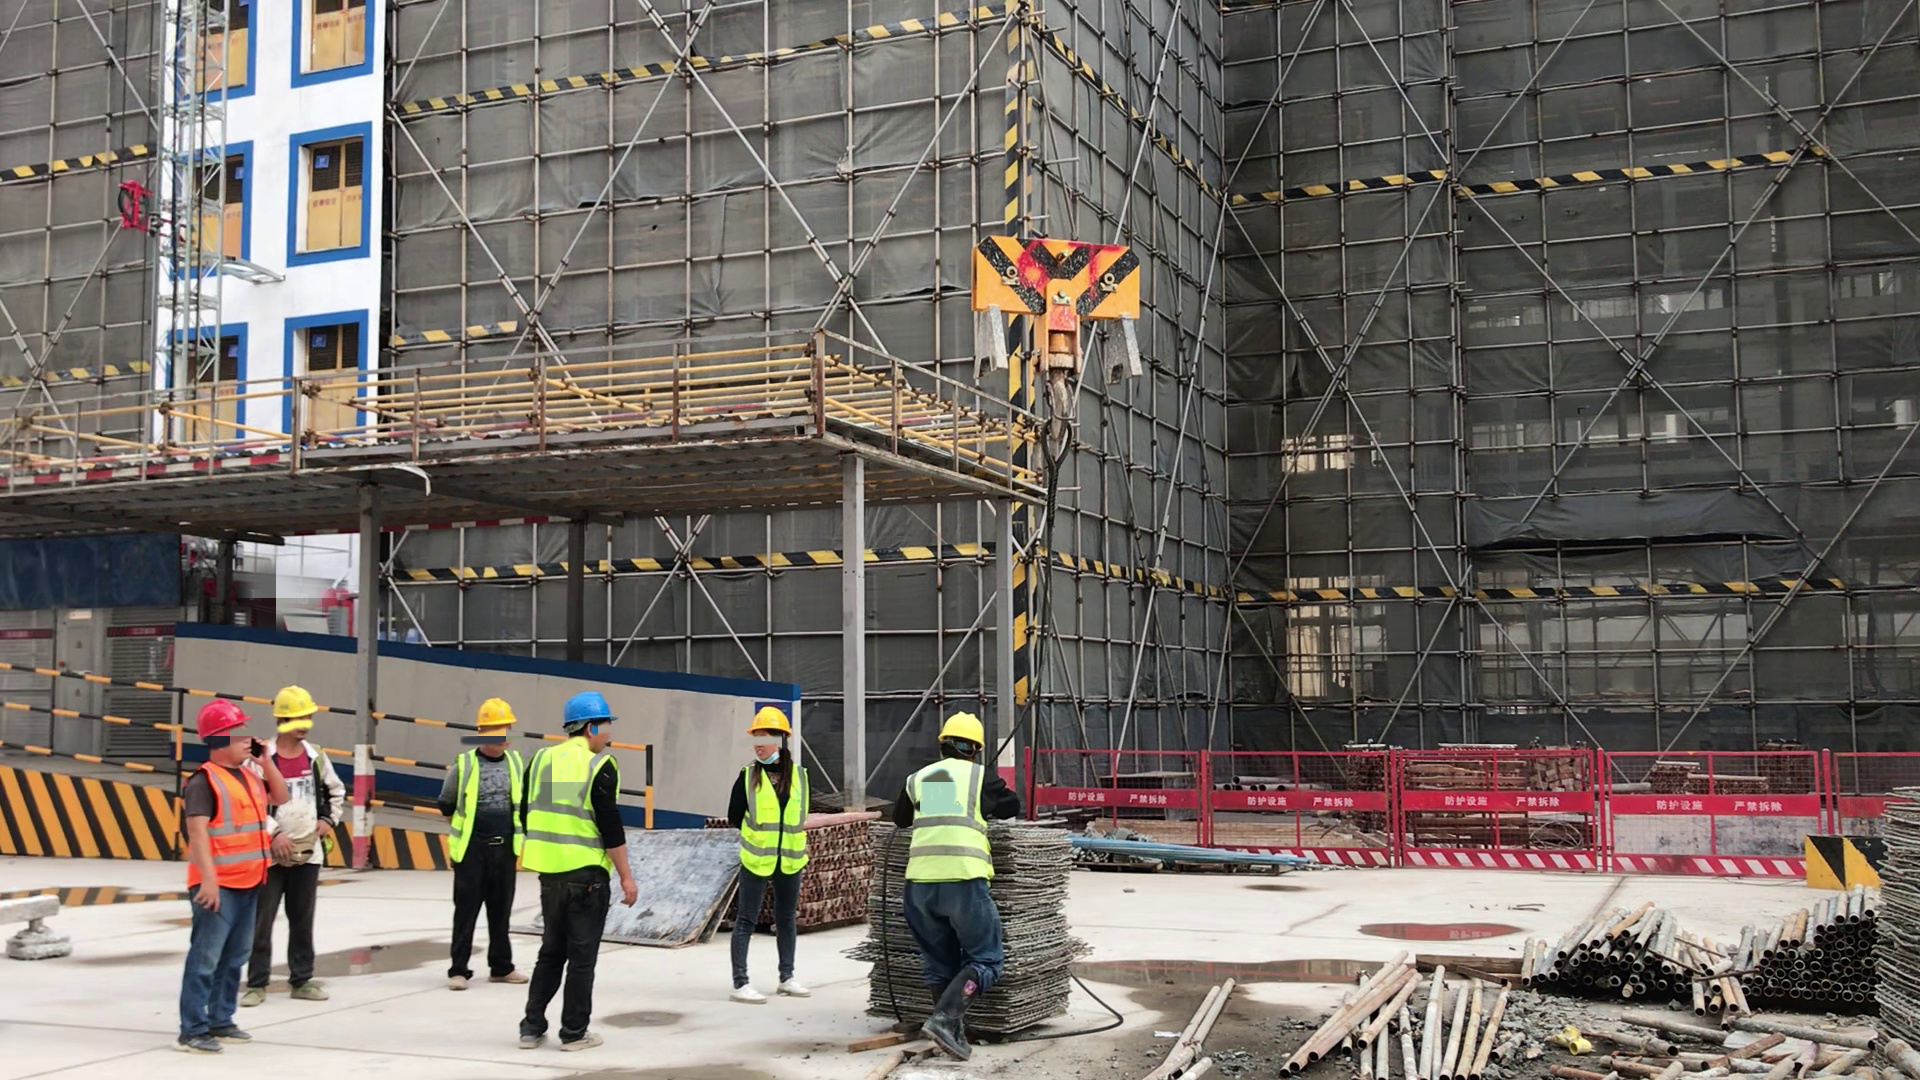helmet: (197, 699, 251, 734), (936, 711, 986, 749), (563, 691, 618, 725), (273, 686, 318, 719), (748, 706, 797, 735), (477, 699, 516, 726)
person: (888, 711, 1019, 1061), (523, 693, 633, 1050), (178, 703, 269, 1055), (244, 687, 338, 1007), (730, 708, 816, 1004), (444, 700, 527, 988)
vest: (525, 746, 619, 877), (901, 762, 994, 881), (200, 757, 269, 896), (743, 772, 808, 880), (458, 749, 523, 856)
